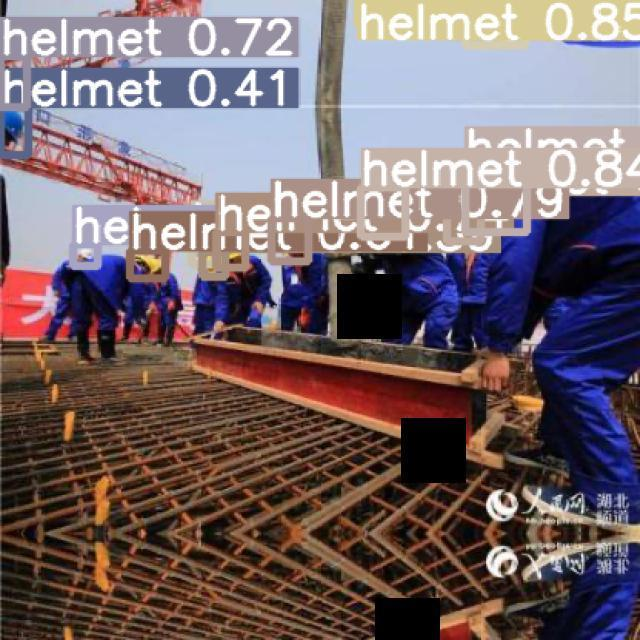helmet: (0, 95, 32, 160), (129, 248, 166, 279), (224, 244, 248, 271)
